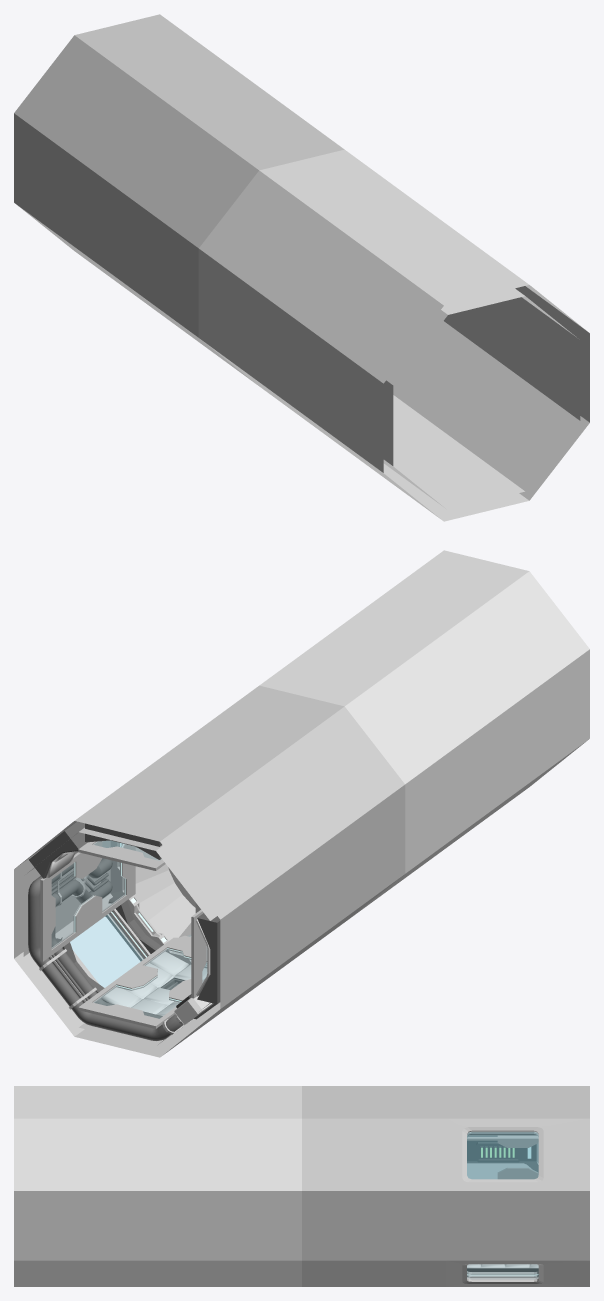
File: Corridoiospazialo2.fbx
The picture shows the model from 3 angles, top to bottom: view 1: azimuth 30°, elevation 25°; view 2: azimuth 150°, elevation 25°; view 3: azimuth 270°, elevation 25°; orthographic projection. The views are drawn at different scales.
Visible parts, largest first — view 1: Hull.001, Hull.002, Hull.005, Hull.004; view 2: Hull.004, Hull.005, Hull.002, Hull.001, PedanaSotto.004, pipe, PedanaSotto.001, DoorHull, SquareCushions, Cube.001, PanelHolder, PedanaSotto.002 (+4 smaller); view 3: Hull.005, Hull.004, Hull.002, Hull.001, PedanaSotto.003, PanelHolder, SquareCushions, PedanaSotto.002.
Part boxes in pixels (x1=…): Hull.001: x1=291, y1=217, x2=589, y2=521; Hull.002: x1=198, y1=149, x2=487, y2=451; Hull.005: x1=106, y1=82, x2=344, y2=384; Hull.004: x1=14, y1=14, x2=251, y2=316; Hull.004: x1=14, y1=753, x2=312, y2=1057; Hull.005: x1=167, y1=685, x2=405, y2=987; Hull.002: x1=259, y1=618, x2=497, y2=920; Hull.001: x1=352, y1=550, x2=589, y2=852; PedanaSotto.004: x1=40, y1=841, x2=135, y2=961; pipe: x1=28, y1=852, x2=182, y2=1040; PedanaSotto.001: x1=78, y1=940, x2=207, y2=1028; DoorHull: x1=134, y1=848, x2=195, y2=940; SquareCushions: x1=101, y1=951, x2=207, y2=1015; Cube.001: x1=29, y1=821, x2=87, y2=878; PanelHolder: x1=196, y1=913, x2=220, y2=1004; PedanaSotto.002: x1=78, y1=840, x2=165, y2=870; Hull.005: x1=302, y1=1086, x2=445, y2=1286; Hull.004: x1=446, y1=1086, x2=589, y2=1286; Hull.002: x1=158, y1=1086, x2=301, y2=1286; Hull.001: x1=14, y1=1086, x2=157, y2=1286; PedanaSotto.003: x1=467, y1=1140, x2=538, y2=1179; PanelHolder: x1=467, y1=1135, x2=538, y2=1179; SquareCushions: x1=467, y1=1264, x2=538, y2=1271; PedanaSotto.002: x1=467, y1=1135, x2=538, y2=1140.
Bounding box in the file's own units: 1094 × 1094 × 3394.
